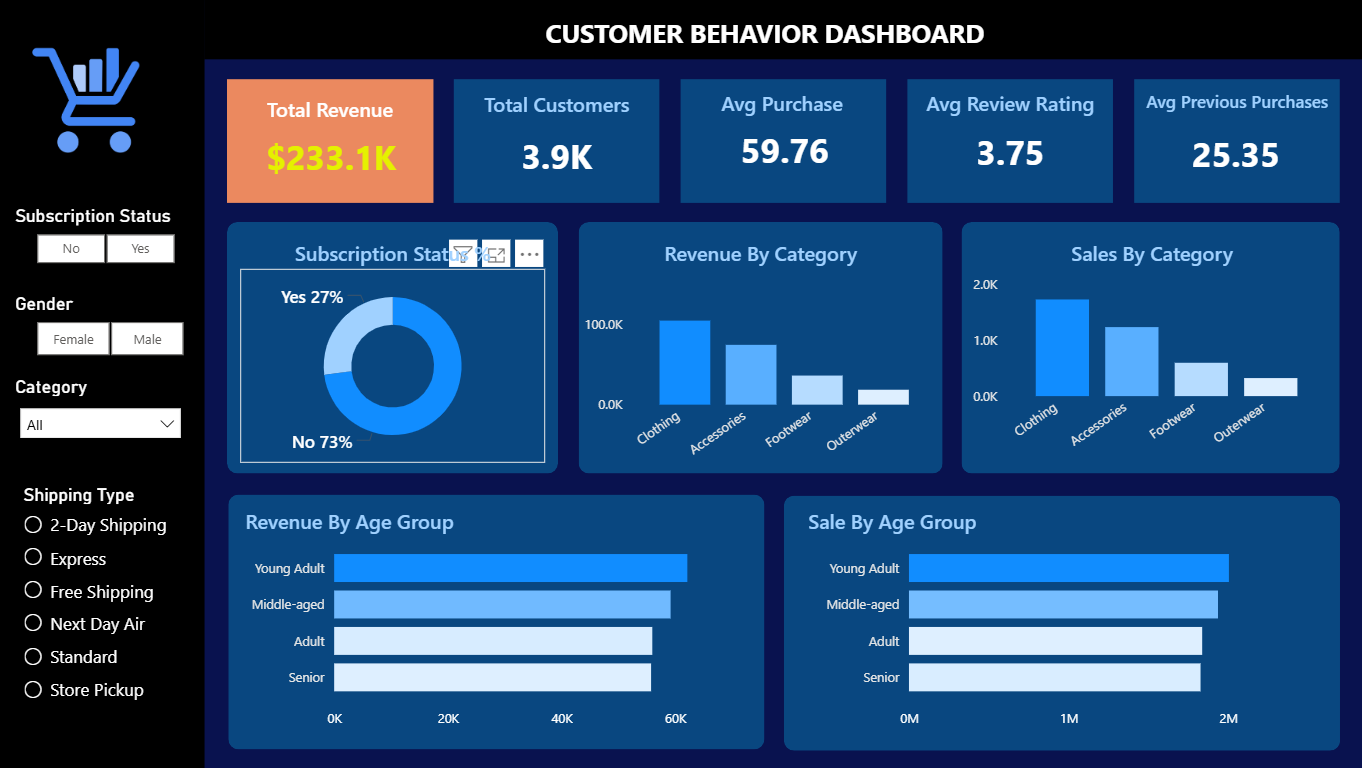

The dashboard page shown, as its layout file describes it:
{"tool":"powerbi","page":{"name":"Page 1","canvas":[1280,720],"ordinal":0},"visuals":[{"type":"shape","box":[215,462.9,502.2,238.9],"z":0},{"type":"shape","box":[213.9,208.4,310,235.6],"z":1000},{"type":"shape","box":[426,74.6,192.9,115.7],"z":2000},{"type":"shape","box":[0,0,192.5,720],"z":3000},{"type":"shape","box":[192.2,0,1087.8,55.6],"z":4000},{"type":"textbox","box":[435.6,8.9,562.2,42.2],"z":5000},{"type":"shape","box":[213.4,74.6,193,115.7],"z":6000},{"type":"card","fields":{"Values":["public customer.Total Revenue"]},"box":[214.8,121.8,192.9,51.4],"z":7000},{"type":"shape","box":[638.5,74.6,192.9,115.7],"z":8000},{"type":"shape","box":[850.9,74.6,192.9,115.7],"z":9000},{"type":"shape","box":[1063.4,74.6,192.9,115.7],"z":10000},{"type":"textbox","box":[426.2,80.3,192.9,35.7],"z":11000},{"type":"card","fields":{"Values":["public customer.Number Of Customers"]},"box":[426.2,120.3,192.9,52.9],"z":12000},{"type":"textbox","box":[213.4,84.6,192.9,35.7],"z":13000},{"type":"card","fields":{"Values":["public customer.Average Purchase Amount"]},"box":[639.1,114.6,192.9,52.9],"z":14000},{"type":"textbox","box":[639.1,78.9,192.9,42.9],"z":15000},{"type":"textbox","box":[850.5,78.9,192.9,35.7],"z":16000},{"type":"textbox","box":[1063.4,78.9,192.9,35.7],"z":17000},{"type":"card","fields":{"Values":["public customer.Average Review Rating"]},"box":[850.5,116,192.9,52.9],"z":18000},{"type":"card","fields":{"Values":["public customer.Average Previous Purchases"]},"box":[1062,117.5,192.9,52.9],"z":19000},{"type":"donutChart","fields":{"Category":["public customer.subscription_status"],"Y":["CountNonNull(public customer.customer_id)"]},"box":[226.1,251.8,285.6,182.2],"z":20000},{"type":"textbox","box":[214.8,218.9,308.6,42.9],"z":21000},{"type":"shape","box":[542.9,208.4,341.1,235.6],"z":22000},{"type":"shape","box":[901.6,208.4,354.4,235.6],"z":23000},{"type":"clusteredColumnChart","fields":{"Category":["public customer.category"],"Y":["Sum(public customer.purchase_amount)"]},"box":[542.9,251.8,341.1,192.2],"z":24000},{"type":"textbox","box":[542.4,218.9,341.4,42.9],"z":25000},{"type":"clusteredColumnChart","fields":{"Category":["public customer.category"],"Y":["CountNonNull(public customer.customer_id)"]},"box":[907.2,251.8,342.2,182.2],"z":26000},{"type":"textbox","box":[909.1,218.9,341.4,42.9],"z":27000},{"type":"listSlicer","fields":{"Values":["public customer.shipping_type"]},"box":[17.8,453.3,174.4,210],"z":28000},{"type":"slicer","title":"Category","fields":{"Values":["public customer.category"]},"box":[10,352.2,170,80],"z":29000},{"type":"slicer","title":"Subscription Status","fields":{"Values":["public customer.subscription_status"]},"box":[10,192.2,177.8,61],"z":30000},{"type":"slicer","title":"Gender","fields":{"Values":["public customer.gender"]},"box":[10,274.4,186.7,65.6],"z":31000},{"type":"clusteredBarChart","fields":{"Y":["Sum(public customer.purchase_amount)"],"Category":["public customer.age_group"]},"box":[226.1,491.8,475.6,200],"z":32000},{"type":"textbox","box":[226.1,470.7,487.8,43.3],"z":33000},{"type":"shape","box":[735,464,521.1,238.9],"z":34000},{"type":"clusteredBarChart","fields":{"Category":["public customer.age_group"],"Y":["Sum(public customer.customer_id)"]},"box":[763.9,491.8,475.6,200],"z":35000},{"type":"textbox","box":[752.8,470.7,487.8,43.3],"z":36000},{"type":"image","box":[17.8,27.8,126.7,131.1],"z":37000}]}

Visuals, with their boxes in screenshot pixels (x1, y1, x2, y2), scaled from the page's 1280x720 canvas onto the 1362x768 screenshot:
shape: (229, 494, 763, 749)
shape: (228, 222, 557, 474)
shape: (453, 80, 659, 203)
shape: (0, 0, 205, 767)
shape: (205, 0, 1361, 59)
textbox: (464, 9, 1062, 55)
shape: (227, 80, 432, 203)
card - public customer.Total Revenue: (229, 130, 434, 185)
shape: (679, 80, 885, 203)
shape: (905, 80, 1111, 203)
shape: (1132, 80, 1337, 203)
textbox: (454, 86, 659, 124)
card - public customer.Number Of Customers: (454, 128, 659, 185)
textbox: (227, 90, 432, 128)
card - public customer.Average Purchase Amount: (680, 122, 885, 179)
textbox: (680, 84, 885, 130)
textbox: (905, 84, 1110, 122)
textbox: (1132, 84, 1337, 122)
card - public customer.Average Review Rating: (905, 124, 1110, 180)
card - public customer.Average Previous Purchases: (1130, 125, 1335, 182)
donutChart - public customer.subscription_status x CountNonNull(public customer.customer_id): (241, 269, 544, 463)
textbox: (229, 233, 557, 279)
shape: (578, 222, 941, 474)
shape: (959, 222, 1336, 474)
clusteredColumnChart - public customer.category x Sum(public customer.purchase_amount): (578, 269, 941, 474)
textbox: (577, 233, 940, 279)
clusteredColumnChart - public customer.category x CountNonNull(public customer.customer_id): (965, 269, 1329, 463)
textbox: (967, 233, 1331, 279)
listSlicer - public customer.shipping_type: (19, 484, 205, 708)
"Category" slicer: (11, 376, 192, 461)
"Subscription Status" slicer: (11, 205, 200, 270)
"Gender" slicer: (11, 293, 209, 363)
clusteredBarChart - Sum(public customer.purchase_amount) x public customer.age_group: (241, 525, 747, 738)
textbox: (241, 502, 760, 548)
shape: (782, 495, 1337, 750)
clusteredBarChart - public customer.age_group x Sum(public customer.customer_id): (813, 525, 1319, 738)
textbox: (801, 502, 1320, 548)
image: (19, 30, 154, 169)
